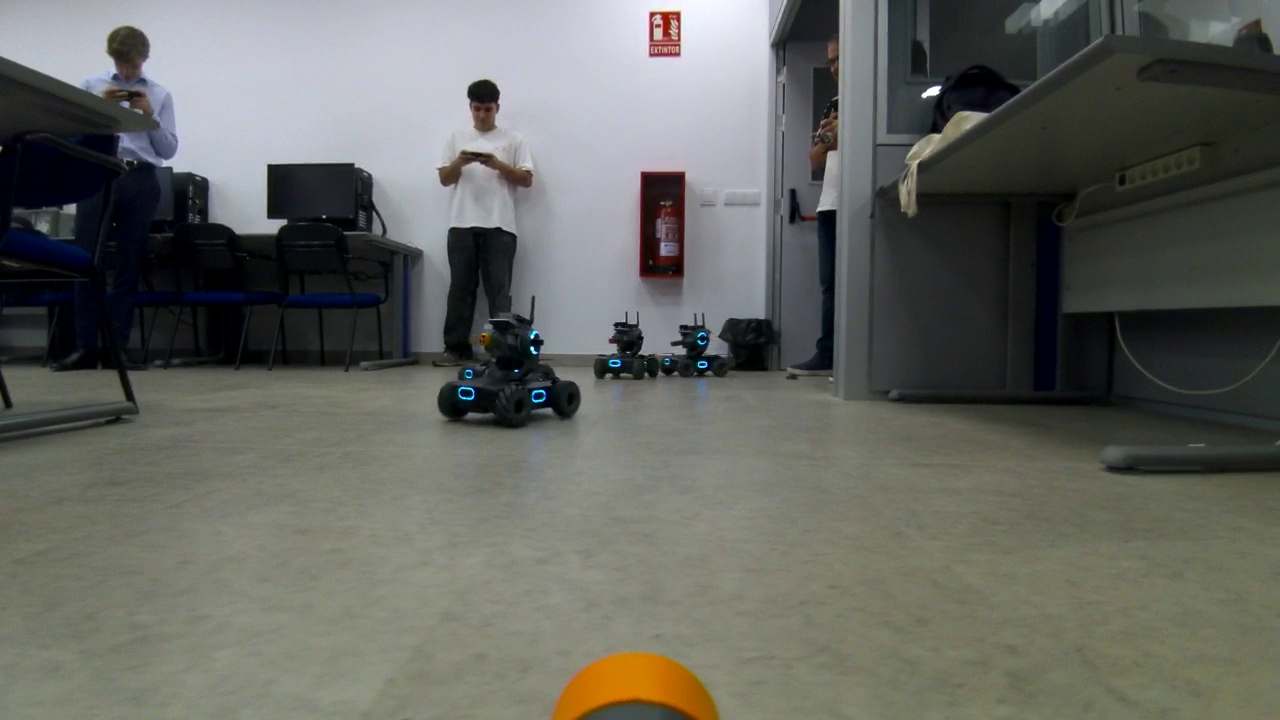robot: (430, 296, 582, 426), (593, 312, 662, 383), (665, 315, 729, 378)
